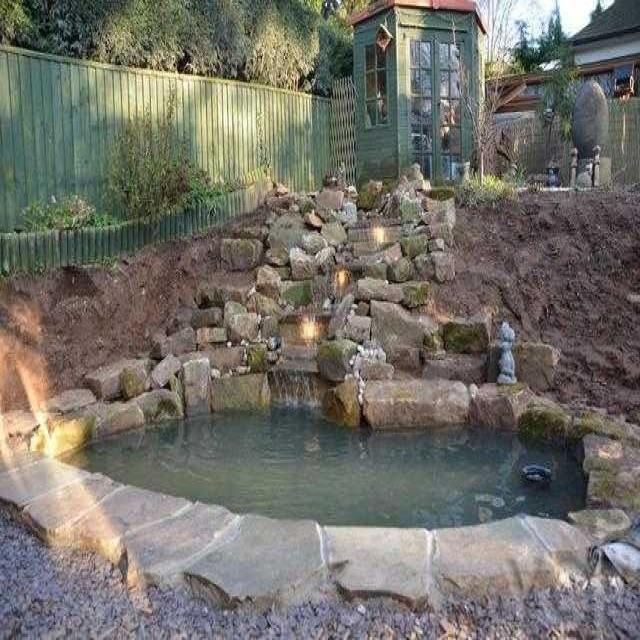Ponds: (1, 334, 640, 609)
